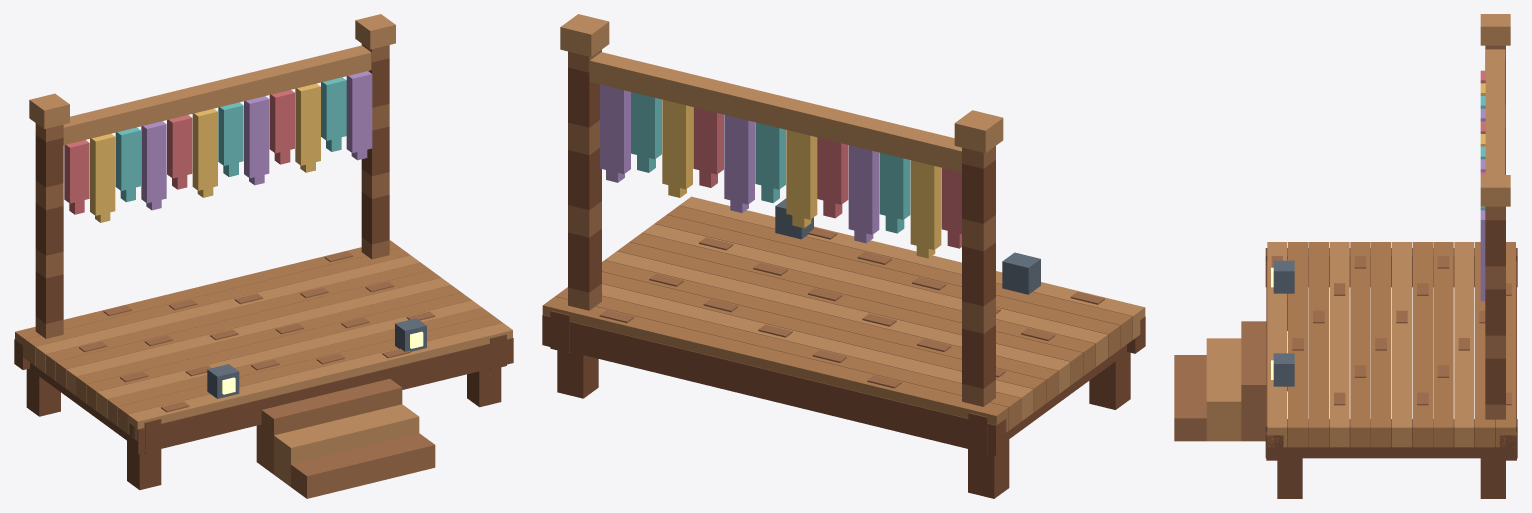
Rendered from CeremonyStage_4x2.fbx.
The picture shows the model from 3 angles, left to right: view 1: azimuth 30°, elevation 25°; view 2: azimuth 150°, elevation 25°; view 3: azimuth 270°, elevation 25°; orthographic projection. The views are drawn at different scales.
Visible parts, largest first — view 1: Backstage crossbar, Stage front rail, Stage plank, Connected front step.002, Connected front step.001, Connected front step, Stage plank.009, Stage plank.005, Stage plank.006, Stage plank.004, Stage plank.008, Stage plank.007 (+37 smaller); view 2: Stage front rail.001, Backstage crossbar, Stage plank.011, Stage plank.005, Stage plank.006, Stage plank.002, Stage plank.003, Stage plank.001, Stage plank.004, Stage plank.008, Stage plank.007, Stage plank.009 (+55 smaller); view 3: Stage plank.002, Stage plank.005, Stage plank.009, Stage plank.004, Stage plank.008, Stage plank.003, Stage plank.007, Stage plank.006, Stage plank.001, Connected front step.001, Connected front step, Stage plank (+22 smaller).
Boxes of the visible parts, x1,y1,x2,y2 form: Backstage crossbar: (63, 45, 371, 144); Stage front rail: (129, 338, 513, 454); Stage plank: (127, 323, 512, 440); Connected front step.002: (291, 433, 435, 498); Connected front step.001: (274, 404, 419, 486); Connected front step: (256, 378, 402, 474); Stage plank.009: (35, 255, 420, 373); Stage plank.005: (76, 285, 461, 403); Stage plank.006: (66, 277, 451, 395); Stage plank.004: (86, 293, 471, 410); Stage plank.008: (45, 263, 430, 380); Stage plank.007: (56, 270, 440, 388); Stage front rail.001: (542, 315, 1006, 455); Backstage crossbar: (589, 52, 961, 172); Stage plank.011: (542, 296, 1008, 432); Stage plank.005: (617, 242, 1082, 384); Stage plank.006: (605, 251, 1070, 394); Stage plank.002: (654, 214, 1120, 357); Stage plank.003: (642, 224, 1107, 366); Stage plank.001: (667, 205, 1132, 348); Stage plank.004: (630, 233, 1095, 375); Stage plank.008: (602, 271, 1045, 412); Stage plank.007: (602, 260, 1058, 403); Stage plank.009: (567, 284, 1033, 421); Stage plank.002: (1308, 242, 1328, 447); Stage plank.005: (1371, 242, 1391, 447); Stage plank.009: (1454, 242, 1474, 447); Stage plank.004: (1350, 242, 1370, 447); Stage plank.008: (1433, 242, 1453, 447); Stage plank.003: (1329, 242, 1349, 447); Stage plank.007: (1412, 242, 1432, 447); Stage plank.006: (1392, 242, 1411, 447); Stage plank.001: (1288, 242, 1308, 447); Connected front step.001: (1206, 338, 1241, 441); Connected front step: (1241, 321, 1266, 441); Stage plank: (1267, 242, 1287, 447).
Size of the model in its own units: 380 by 295 by 297.
